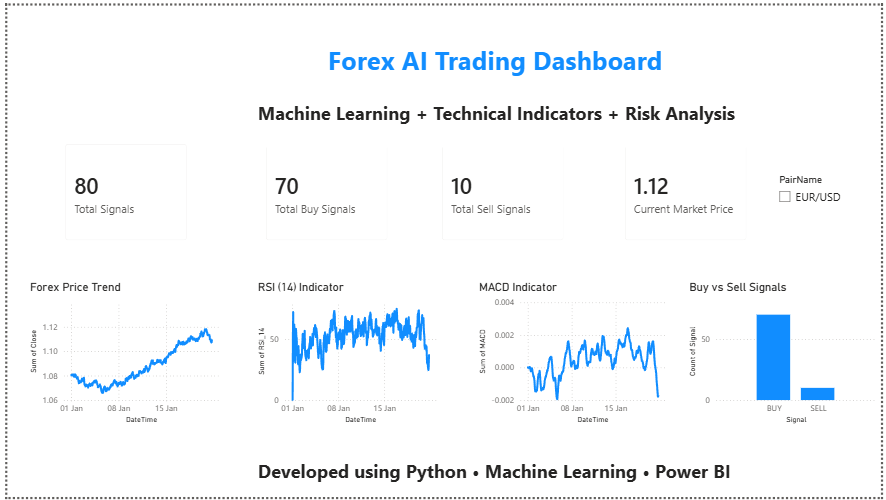

The page's visual inventory and layout, read from the dashboard file:
{"tool":"powerbi","page":{"name":"Trading Dashboard","canvas":[1280,720],"ordinal":0},"visuals":[{"type":"cardVisual","fields":{"Data":["ml_predictions.Total Buy Signals"]},"box":[362.5,185,212.5,175],"z":0},{"type":"cardVisual","fields":{"Data":["ml_predictions.Total Trades"]},"box":[67.5,185,212.5,175],"z":1000},{"type":"cardVisual","fields":{"Data":["ml_predictions.Total Sell Signals"]},"box":[620,185,212.5,175],"z":2000},{"type":"cardVisual","fields":{"Data":["ml_predictions.Latest Close"]},"box":[887.5,185,212.5,175],"z":3000},{"type":"lineChart","title":"Forex Price Trend","fields":{"Category":["processed_market_data.DateTime"],"Y":["Sum(processed_market_data.Close)"]},"box":[28,402,294,216],"z":4000},{"type":"clusteredColumnChart","title":"Buy vs Sell Signals","fields":{"Category":["ml_predictions.Signal"],"Y":["CountNonNull(ml_predictions.Signal)"]},"box":[994,402,284,216],"z":5000},{"type":"lineChart","title":"RSI (14) Indicator","fields":{"Y":["Sum(processed_market_data.RSI_14)"],"Category":["processed_market_data.DateTime"]},"box":[362,402,278,216],"z":6000},{"type":"lineChart","title":"MACD Indicator","fields":{"Category":["processed_market_data.DateTime"],"Y":["Sum(processed_market_data.MACD)"]},"box":[686,402,290,216],"z":7000},{"type":"slicer","fields":{"Values":["processed_market_data.PairName"]},"box":[1117.5,242.5,162.5,117.5],"z":8000},{"type":"textbox","box":[362,0,774,208],"z":9000},{"type":"textbox","box":[68,23,213,162],"z":10000},{"type":"textbox","box":[362,658,738,62],"z":11000}]}

Visuals, with their boxes in screenshot pixels (x1, y1, x2, y2), scaled from the page's 1280x720 canvas onto the 886x500 screenshot:
cardVisual - ml_predictions.Total Buy Signals: [251, 128, 398, 250]
cardVisual - ml_predictions.Total Trades: [47, 128, 194, 250]
cardVisual - ml_predictions.Total Sell Signals: [429, 128, 576, 250]
cardVisual - ml_predictions.Latest Close: [614, 128, 761, 250]
"Forex Price Trend" lineChart: [19, 279, 223, 429]
"Buy vs Sell Signals" clusteredColumnChart: [688, 279, 885, 429]
"RSI (14) Indicator" lineChart: [251, 279, 443, 429]
"MACD Indicator" lineChart: [475, 279, 676, 429]
slicer - processed_market_data.PairName: [774, 168, 885, 250]
textbox: [251, 0, 786, 144]
textbox: [47, 16, 195, 128]
textbox: [251, 457, 761, 499]
